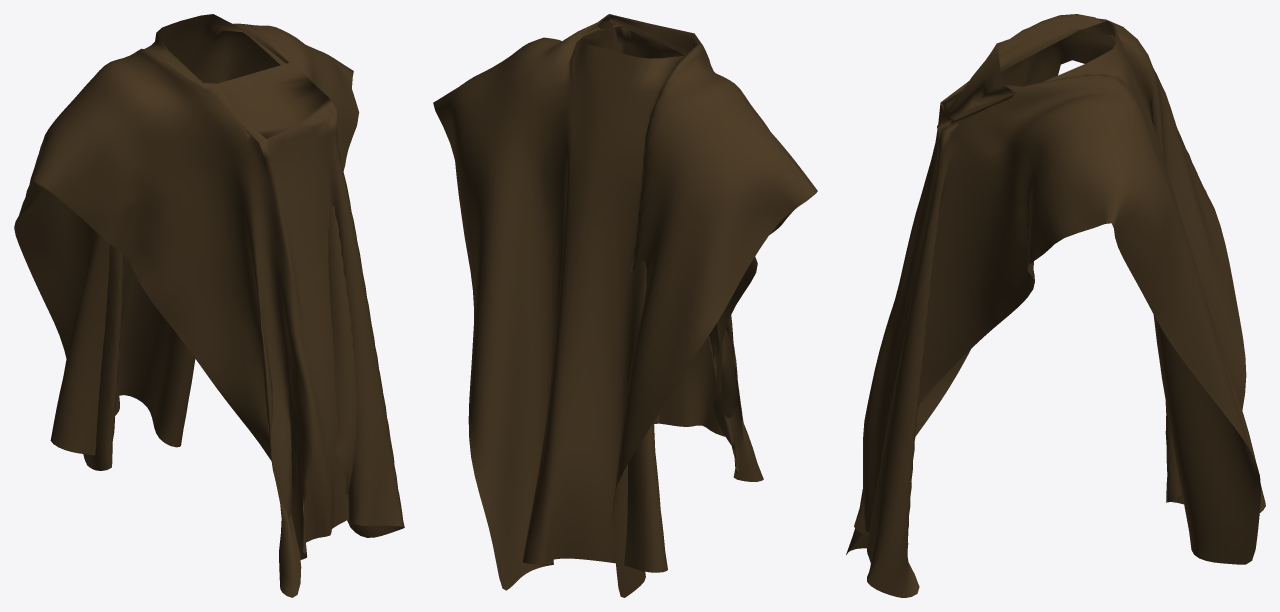
File: ana_karakter_pelerini_tek.fbx
3 renders of one model, left to right at view 1: azimuth 30°, elevation 25°; view 2: azimuth 150°, elevation 25°; view 3: azimuth 270°, elevation 25°, orthographic. The views are drawn at different scales.
Parts seen in each view (by area): view 1: Plane.001; view 2: Plane.001; view 3: Plane.001.
Part boxes in pixels (x1=…): Plane.001: x1=14, y1=14, x2=404, y2=597; Plane.001: x1=433, y1=14, x2=817, y2=597; Plane.001: x1=846, y1=14, x2=1265, y2=597.
Size of the model in its own units: 218 by 299 by 215.
